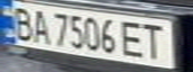0: (81, 15, 103, 52)
5: (66, 12, 84, 51)
6: (100, 16, 121, 55)
7: (48, 10, 69, 47)
A: (27, 7, 51, 44)
B: (6, 3, 36, 42)
E: (118, 19, 151, 60)
T: (139, 20, 172, 61)
